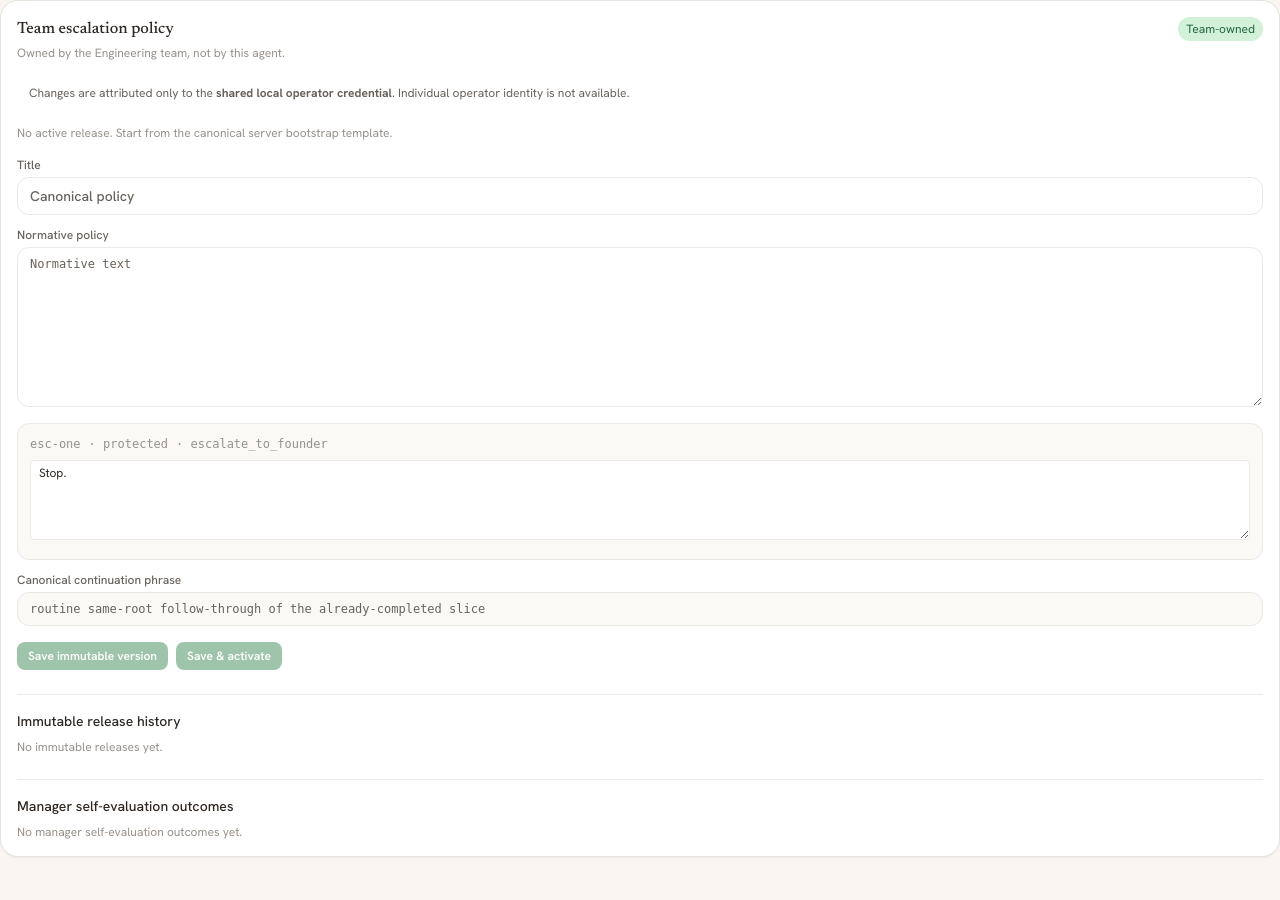
Test case: TeamEscalationPolicyCard › shows the bounded save failure without a receipt
The image size is (1280, 900).
Step 1. Replace the text in the field labelled "Title" with "Edited policy" → (640, 196), box [17, 177, 1263, 215]
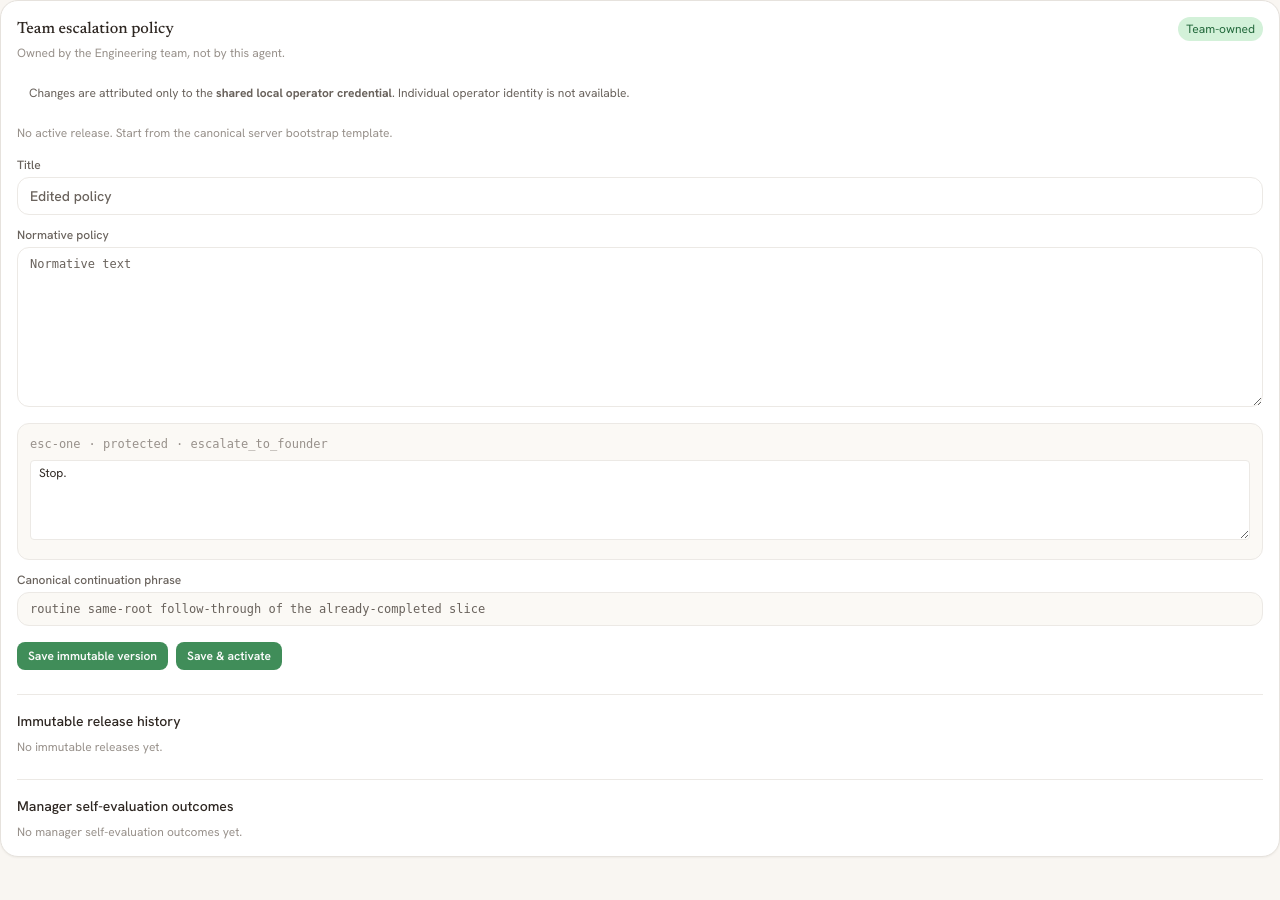
Step 2. Click the button "Save immutable version" → click(92, 656), box [17, 642, 168, 670]
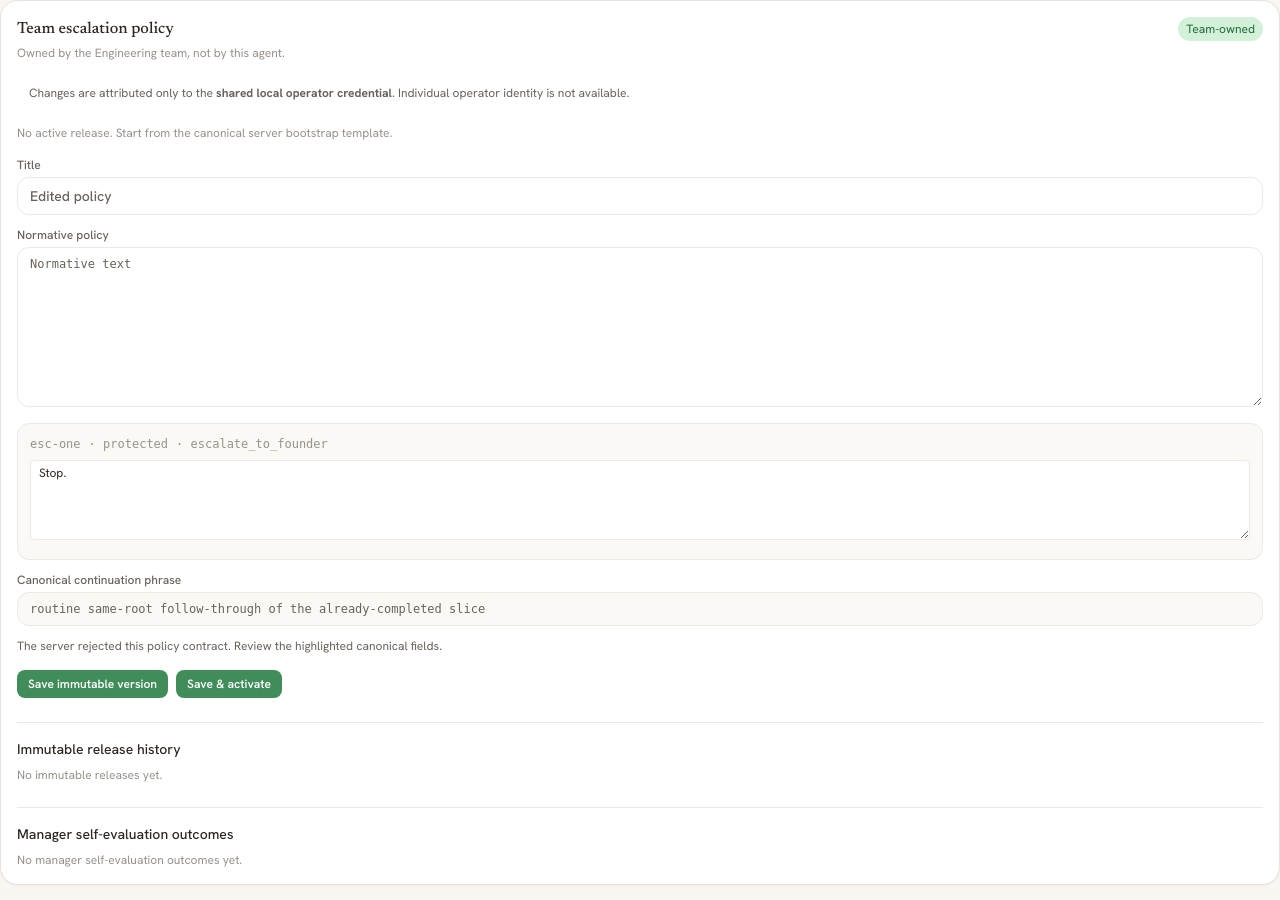
Expected: the text "server rejected this policy contract" is shown, [17, 638, 442, 654]
